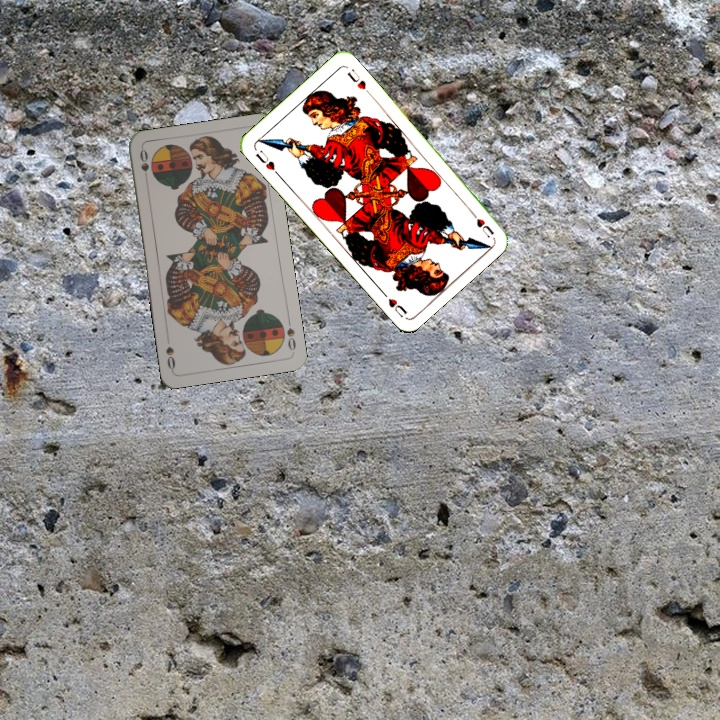HU: (466, 206, 497, 240), (251, 146, 282, 178)
SO: (282, 314, 298, 353), (136, 145, 151, 186)
